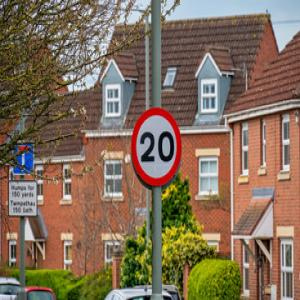speed limit 20: (132, 105, 184, 189)
